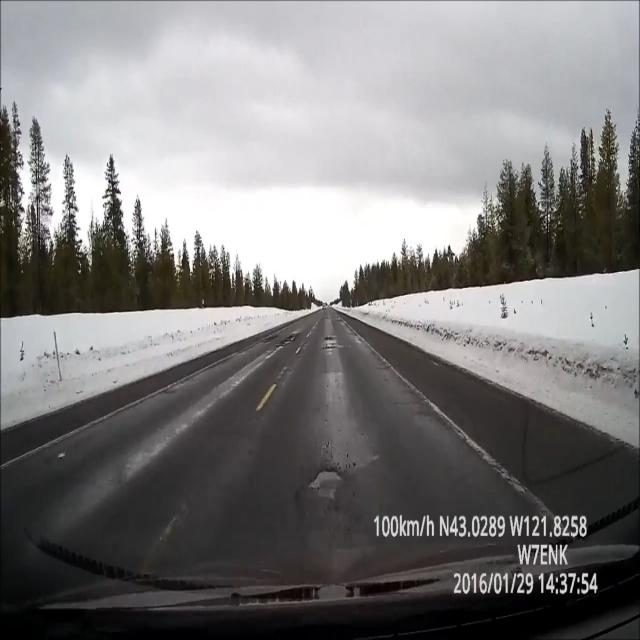Pothole: (308, 461, 346, 515), (317, 328, 341, 358), (277, 326, 300, 348)
